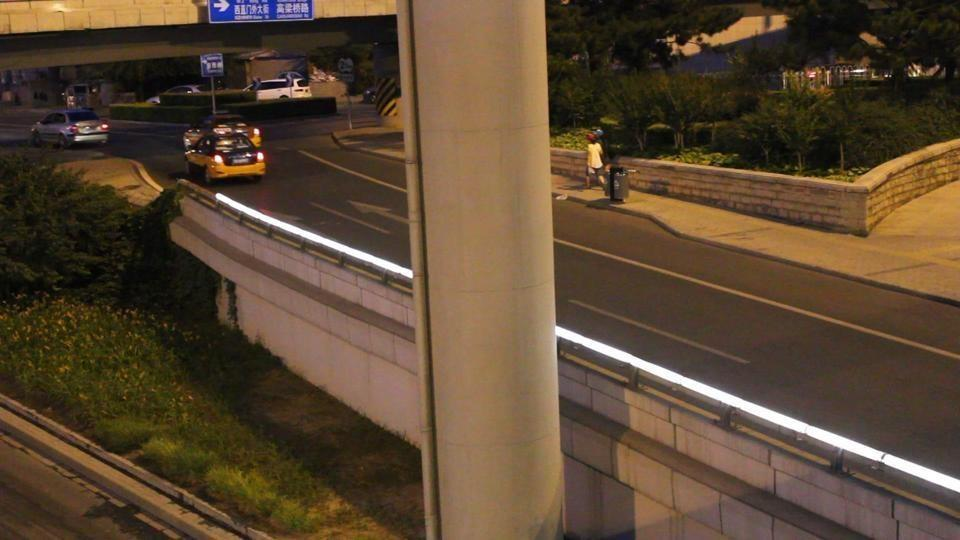car: (185, 126, 267, 184), (30, 108, 110, 149), (250, 74, 310, 98)
